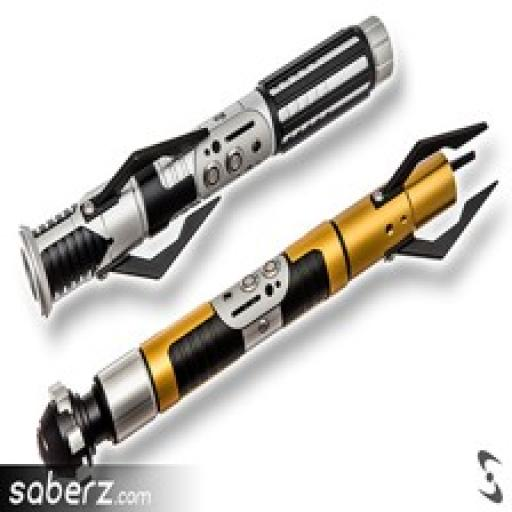lightsaber: (36, 116, 498, 480), (22, 16, 394, 319)
